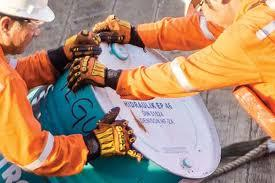gloves: (83, 106, 144, 162), (66, 56, 121, 94), (93, 15, 136, 46), (63, 30, 102, 57)
